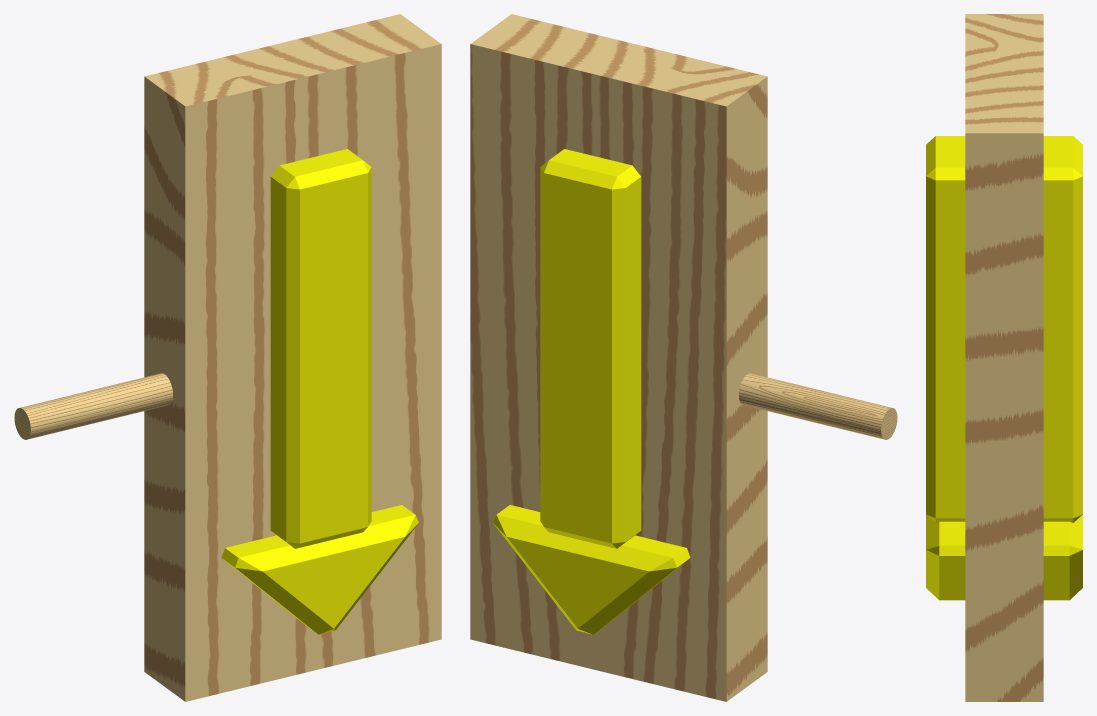
3 views of the same model, side by side, from view 1: azimuth 30°, elevation 25°; view 2: azimuth 150°, elevation 25°; view 3: azimuth 270°, elevation 25° (orthographic). The views are drawn at different scales.
Parts seen in each view (by area): view 1: 立方体.002; view 2: 立方体.002; view 3: 立方体.002.
Part boxes in pixels (left/top/right/bottom): 立方体.002: left=14, top=14, right=441, bottom=701; 立方体.002: left=470, top=14, right=897, bottom=701; 立方体.002: left=926, top=14, right=1082, bottom=701.
Bounding box in the file's own units: 560 × 800 × 200.
